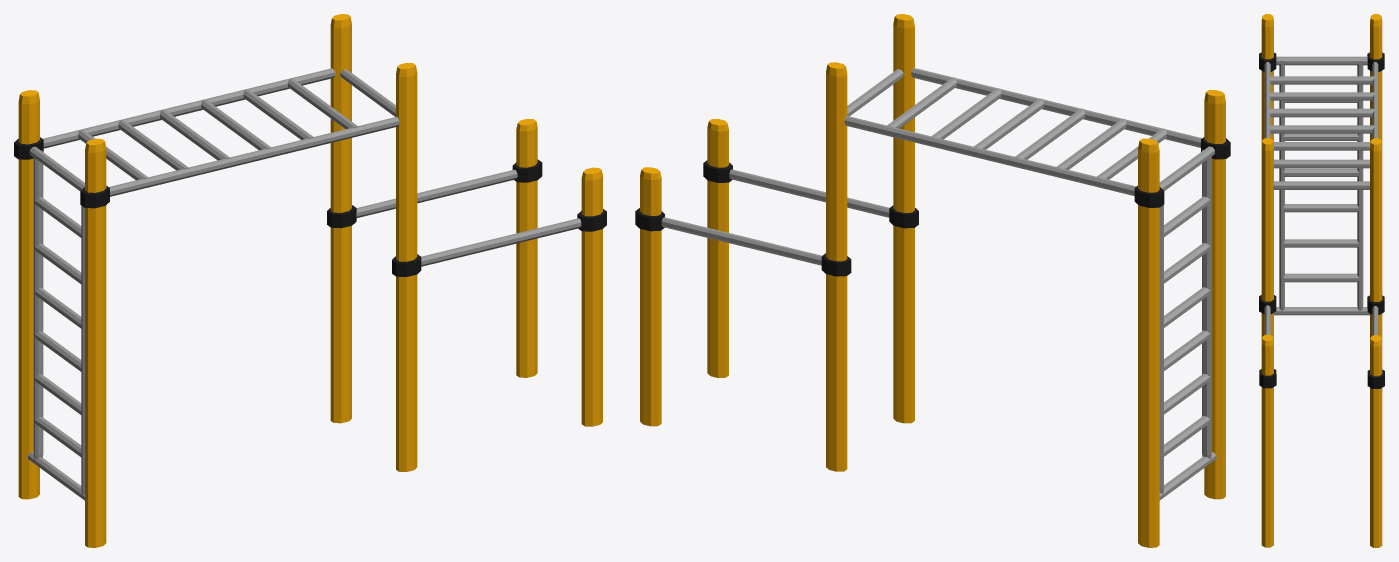
File: Sportsground_03.fbx
3 views of the same model, side by side, from view 1: azimuth 30°, elevation 25°; view 2: azimuth 150°, elevation 25°; view 3: azimuth 270°, elevation 25° (orthographic). The views are drawn at different scales.
Visible parts, largest first — view 1: Sportsground_03; view 2: Sportsground_03; view 3: Sportsground_03.
Boxes of the visible parts, box(x1,y1,x2,y2) form: Sportsground_03: box(14, 14, 606, 547); Sportsground_03: box(635, 14, 1230, 547); Sportsground_03: box(1259, 14, 1384, 547).
Bounding box in the file's own units: 328 × 241 × 83.49.
